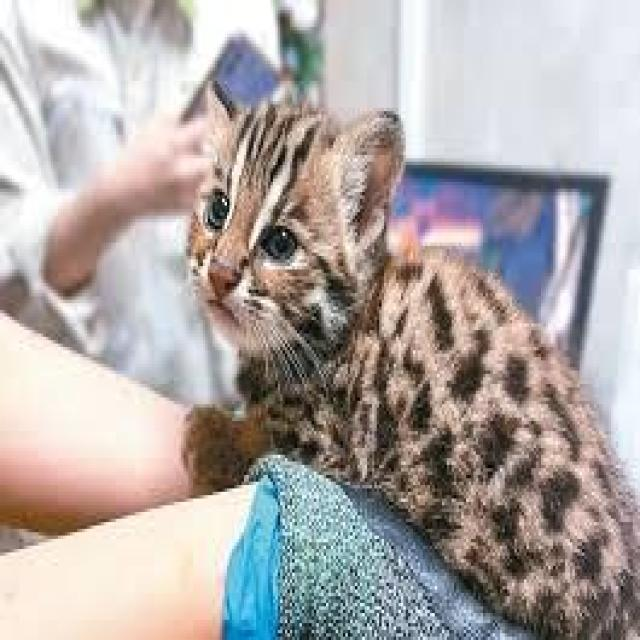leopard: (189, 82, 469, 470)
